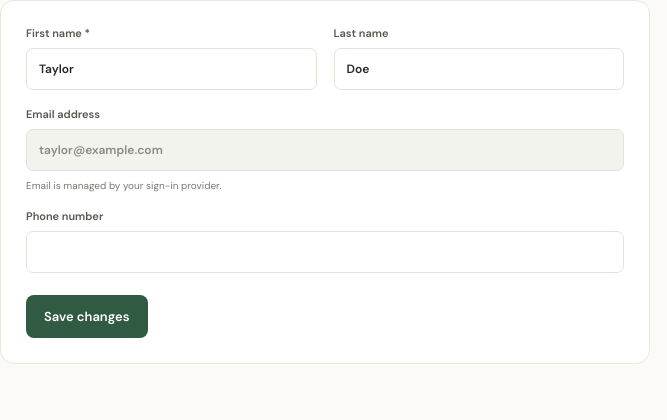
Scenario: ProfileForm › displays database errors
The width and height of the screenshot is (667, 420).
What coordinates should you click on to do the following:
click the button "Save changes"
I would click on:
 (87, 316)
Its box is [26, 295, 148, 338].
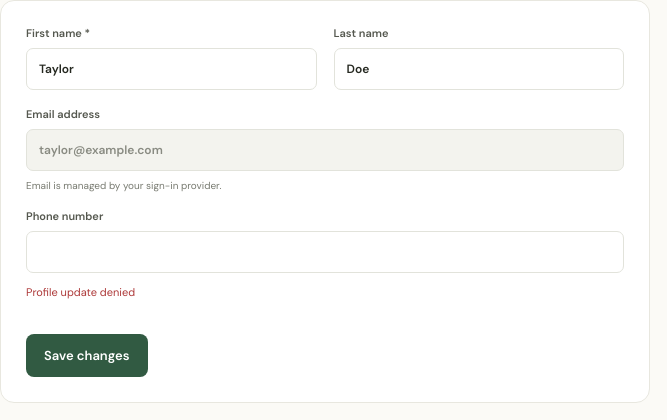
expect the text "Profile update denied" is shown: met, box [26, 285, 135, 299]
